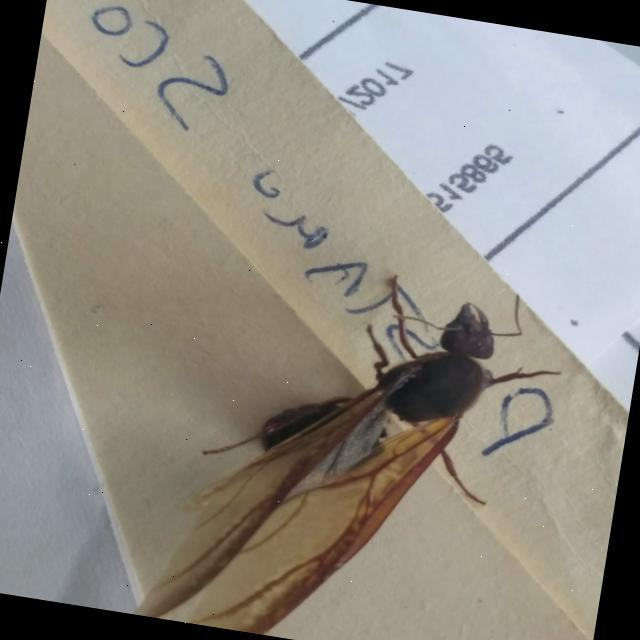Alive-Female-Alate: (132, 242, 574, 640)
